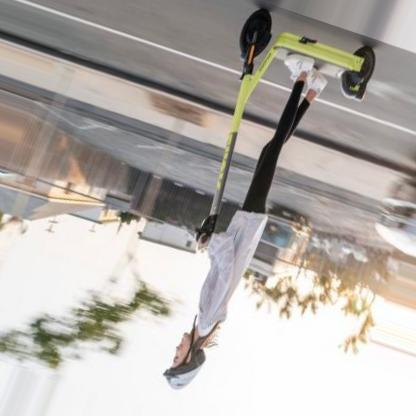scooter: (193, 9, 375, 243)
with helmet: (162, 332, 206, 391)
